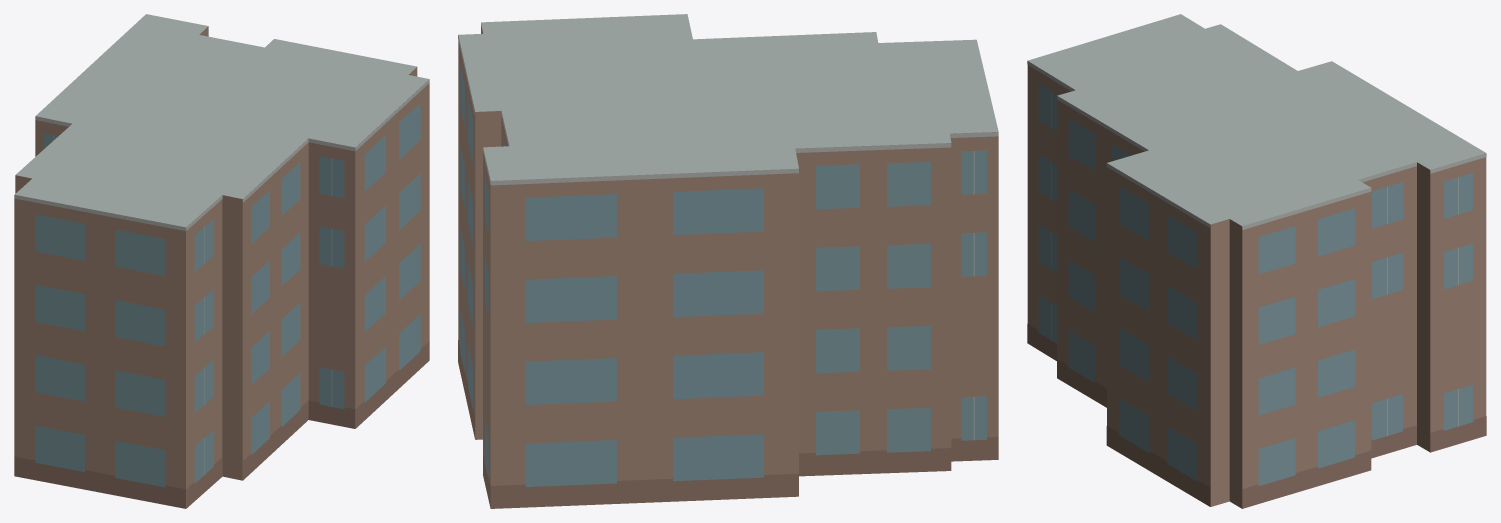
The model's file is survey-upis-32518894.glb.
3 renders of one model, left to right at view 1: azimuth 30°, elevation 25°; view 2: azimuth 150°, elevation 25°; view 3: azimuth 270°, elevation 25°, orthographic. The views are drawn at different scales.
Parts seen in each view (by area): view 1: survey-upis-32518894.tmp; view 2: survey-upis-32518894.tmp; view 3: survey-upis-32518894.tmp.
Part boxes in pixels (x1=…): survey-upis-32518894.tmp: x1=14, y1=14, x2=429, y2=508; survey-upis-32518894.tmp: x1=458, y1=14, x2=998, y2=508; survey-upis-32518894.tmp: x1=1027, y1=14, x2=1486, y2=508.
Bounding box in the file's own units: 28.7 × 17.81 × 26.23.
